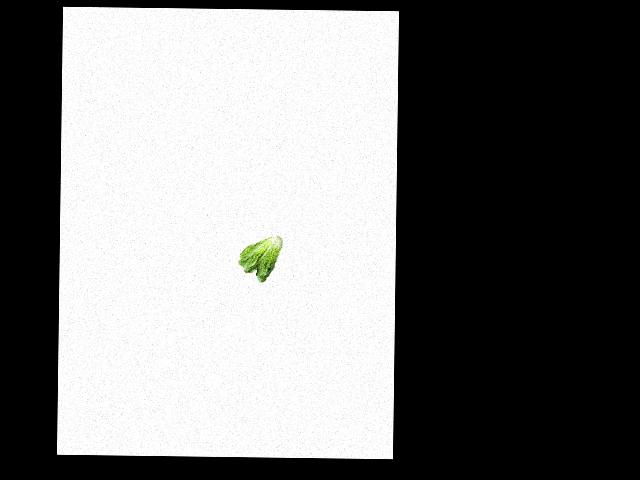lettuce: (231, 233, 283, 282)
